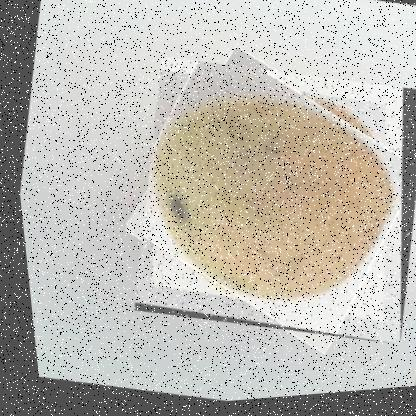mango: (104, 40, 415, 367)
